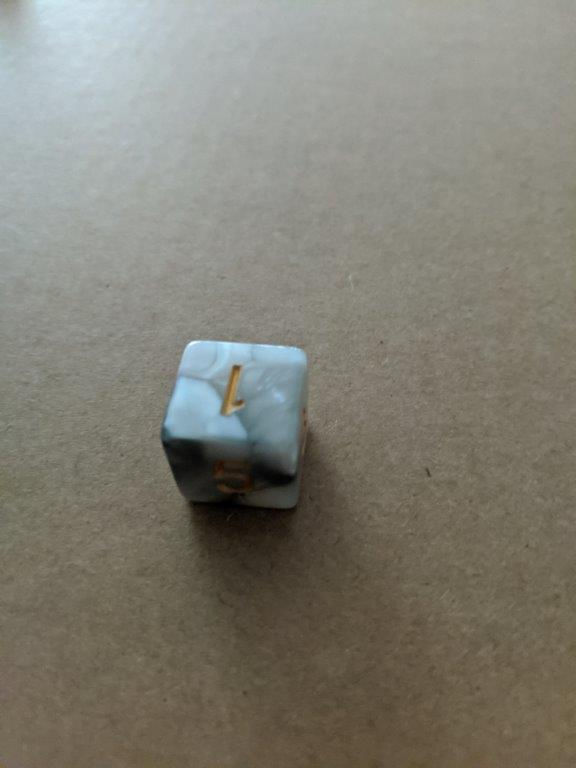d6-1: (160, 337, 310, 510)
